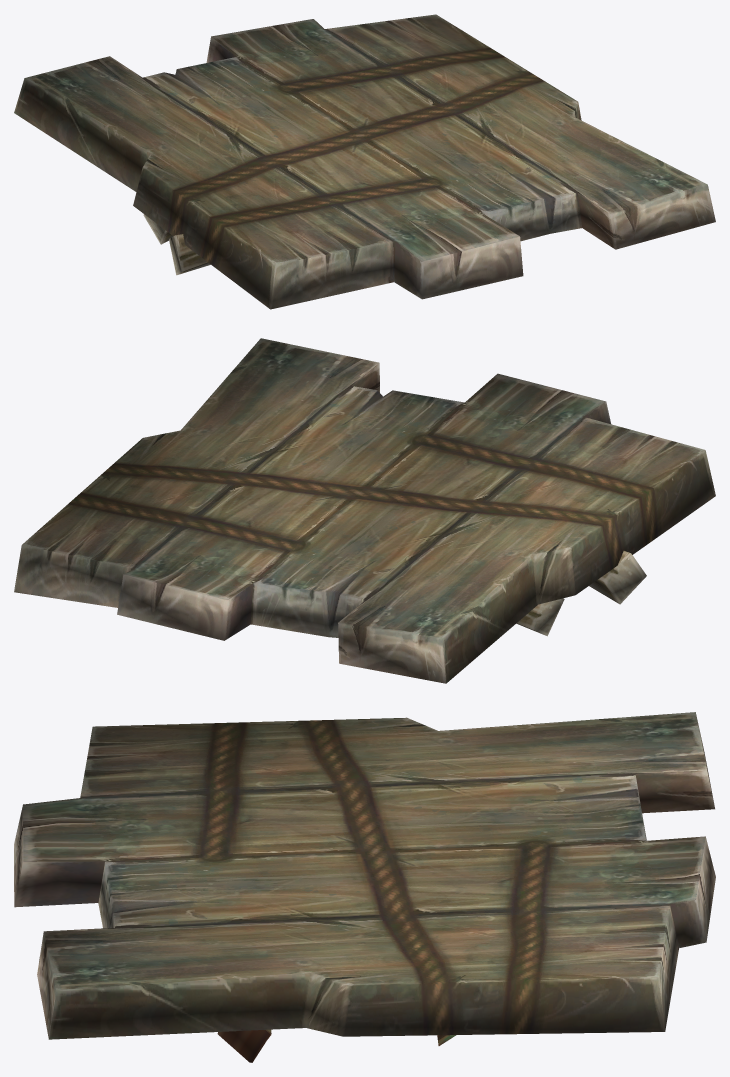
File: Woodplank.fbx
3 views of the same model, one above another, from view 1: azimuth 30°, elevation 25°; view 2: azimuth 150°, elevation 25°; view 3: azimuth 270°, elevation 25° (orthographic). The views are drawn at different scales.
Parts seen in each view (by area): view 1: world/expansion06/doodads/murloc/7mu_murloc_hut03_empty; view 2: world/expansion06/doodads/murloc/7mu_murloc_hut03_empty; view 3: world/expansion06/doodads/murloc/7mu_murloc_hut03_empty.
Part boxes in pixels (x1=…): world/expansion06/doodads/murloc/7mu_murloc_hut03_empty: x1=14, y1=14, x2=715, y2=309; world/expansion06/doodads/murloc/7mu_murloc_hut03_empty: x1=14, y1=338, x2=715, y2=683; world/expansion06/doodads/murloc/7mu_murloc_hut03_empty: x1=14, y1=712, x2=715, y2=1062.
Size of the model in its own units: 91.15 by 19.64 by 102.
